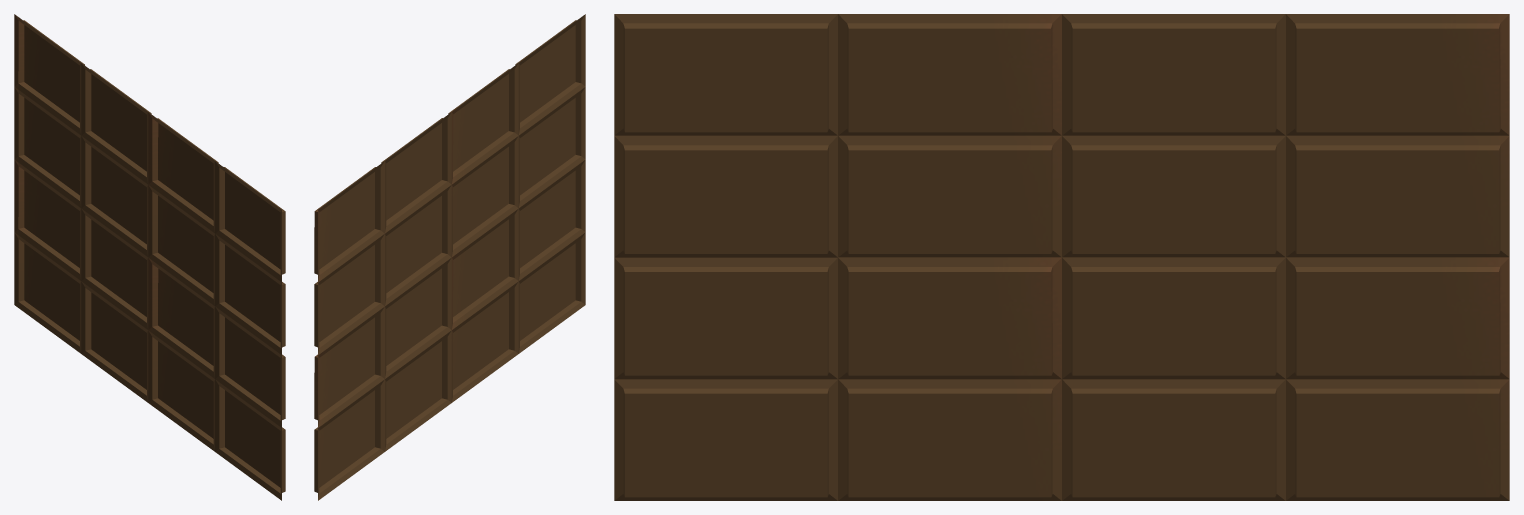
Rendered from Side Panel Large 4x4.fbx.
3 views of the same model, side by side, from view 1: azimuth 30°, elevation 25°; view 2: azimuth 150°, elevation 25°; view 3: azimuth 270°, elevation 25° (orthographic). The views are drawn at different scales.
Parts seen in each view (by area): view 1: Side Panel Large 4x4; view 2: Side Panel Large 4x4; view 3: Side Panel Large 4x4.
Part boxes in pixels (bbox=[...]): Side Panel Large 4x4: bbox=[14, 14, 285, 500]; Side Panel Large 4x4: bbox=[314, 14, 585, 500]; Side Panel Large 4x4: bbox=[614, 14, 1509, 500].
Size of the model in its own units: 7.25 by 300 by 500.
